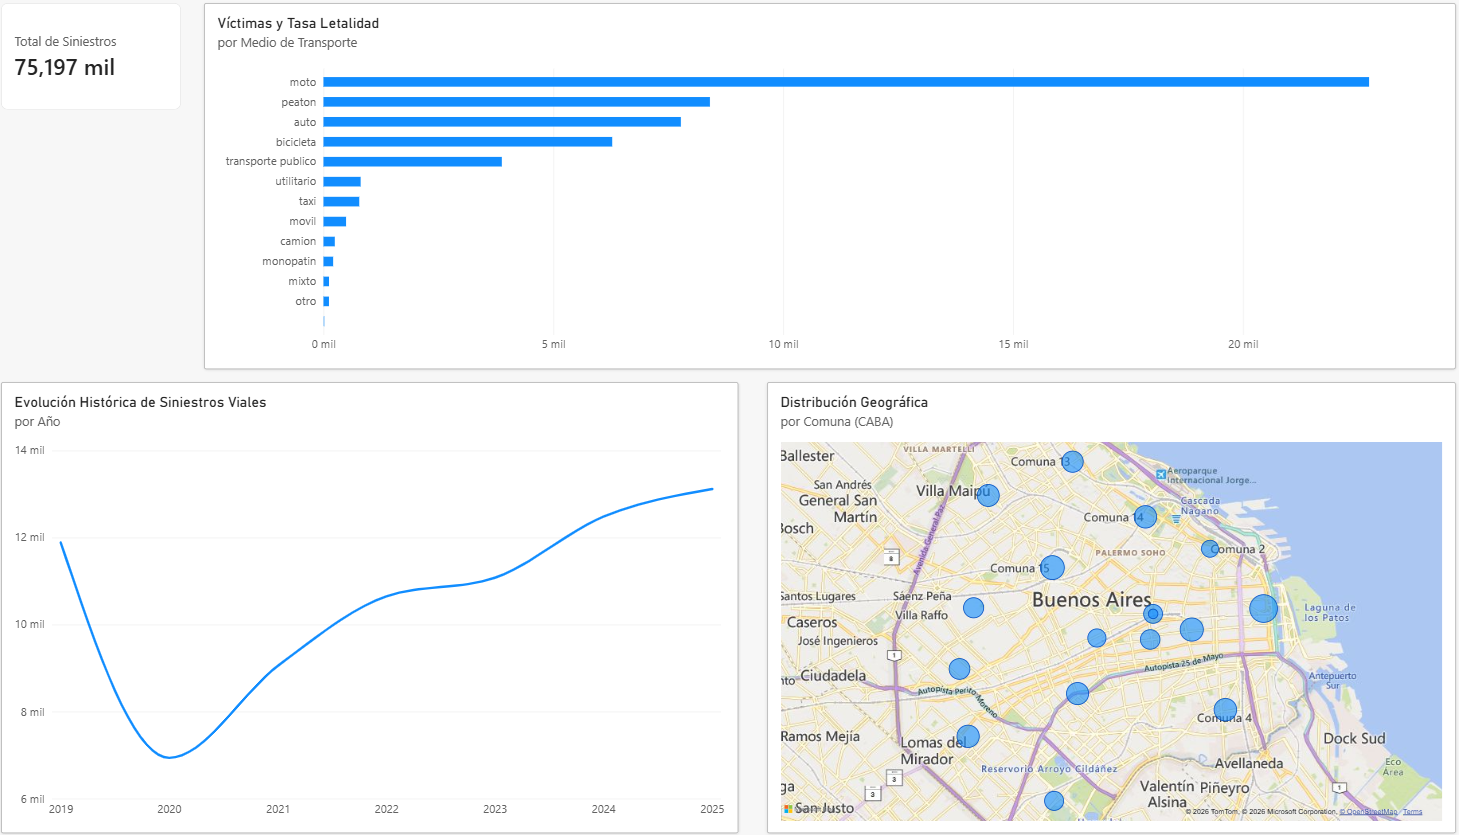

This screenshot's page, from the dashboard's own definition file:
{"tool":"powerbi","page":{"name":"Página 1","canvas":[1920,1080],"ordinal":0},"visuals":[{"type":"actionButton","box":[0,0,100,40],"z":0},{"type":"cardVisual","fields":{"Data":["CountNonNull(fact_victimas.id_siniestro)"]},"box":[49.8,19.4,226.7,134.1],"z":1000},{"type":"clusteredBarChart","fields":{"Category":["dim_vehiculos.modo_desplazamiento_victima"],"Y":["CountNonNull(fact_victimas.id_siniestro)"]},"box":[305.5,19.4,1571.7,460.3],"z":2000},{"type":"lineChart","fields":{"Category":["fact_victimas.fecha_siniestro.Variation.Jerarquía de fechas.Año","fact_victimas.fecha_siniestro.Variation.Jerarquía de fechas.Trimestre","fact_victimas.fecha_siniestro.Variation.Jerarquía de fechas.Mes","fact_victimas.fecha_siniestro.Variation.Jerarquía de fechas.Día"],"Y":["CountNonNull(fact_victimas.id_siniestro)"]},"box":[49.8,494.9,926.1,568.1],"z":3000},{"type":"map","fields":{"Category":["siniestros_viales_hechos.comuna_limpio"],"Size":["CountNonNull(siniestros_viales_hechos.id_siniestro)"]},"box":[1011.8,494.9,865.3,568.1],"z":4000}]}

Visuals, with their boxes in screenshot pixels (x1, y1, x2, y2), scaled from the page's 1920x1080 canvas onto the 1459x835 screenshot:
actionButton: <region>0, 0, 76, 31</region>
cardVisual - CountNonNull(fact_victimas.id_siniestro): <region>38, 15, 210, 119</region>
clusteredBarChart - dim_vehiculos.modo_desplazamiento_victima x CountNonNull(fact_victimas.id_siniestro): <region>232, 15, 1426, 371</region>
lineChart - fact_victimas.fecha_siniestro.Variation.Jerarquía de fechas.Año x fact_victimas.fecha_siniestro.Variation.Jerarquía de fechas.Trimestre: <region>38, 383, 742, 822</region>
map - siniestros_viales_hechos.comuna_limpio x CountNonNull(siniestros_viales_hechos.id_siniestro): <region>769, 383, 1426, 822</region>
